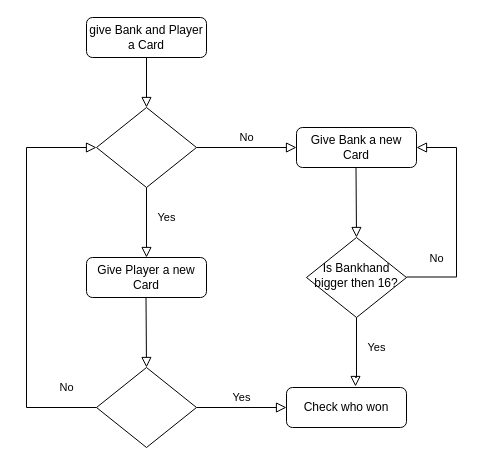
Some shapes in this 484 by 465 pixel diagram are drawn without their labels. Here are the shapes that lost their labels. From the top down, the centre of each, then its label:
At [146,147]: "Does Player want a new Card?".
At [146,407]: "Is playerhand bigger then 21?".
